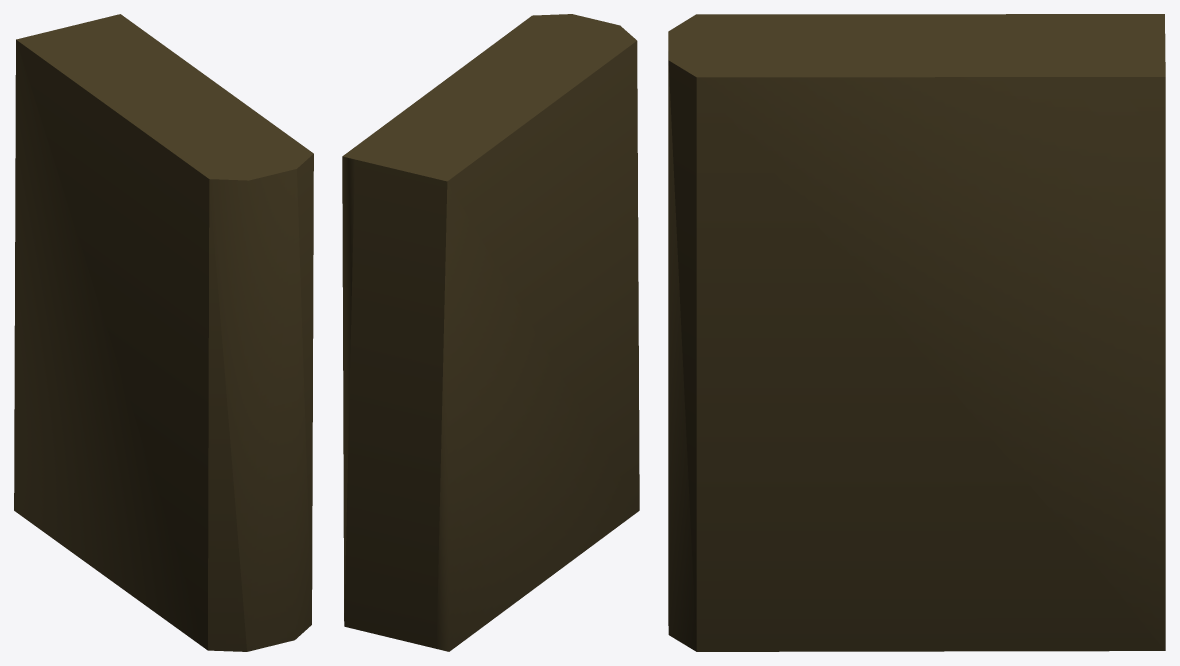
File: pq_livre_simple.glb
The picture shows the model from 3 angles, left to right: view 1: azimuth 30°, elevation 25°; view 2: azimuth 150°, elevation 25°; view 3: azimuth 270°, elevation 25°; orthographic projection. The views are drawn at different scales.
Parts seen in each view (by area): view 1: Book_Simplified_Single; view 2: Book_Simplified_Single; view 3: Book_Simplified_Single.
Boxes of the visible parts, <box> form: Book_Simplified_Single: <box>14,14,313,651</box>; Book_Simplified_Single: <box>342,14,639,651</box>; Book_Simplified_Single: <box>668,14,1165,651</box>.
Size of the model in its own units: 0.0568 by 0.2361 by 0.1848.
